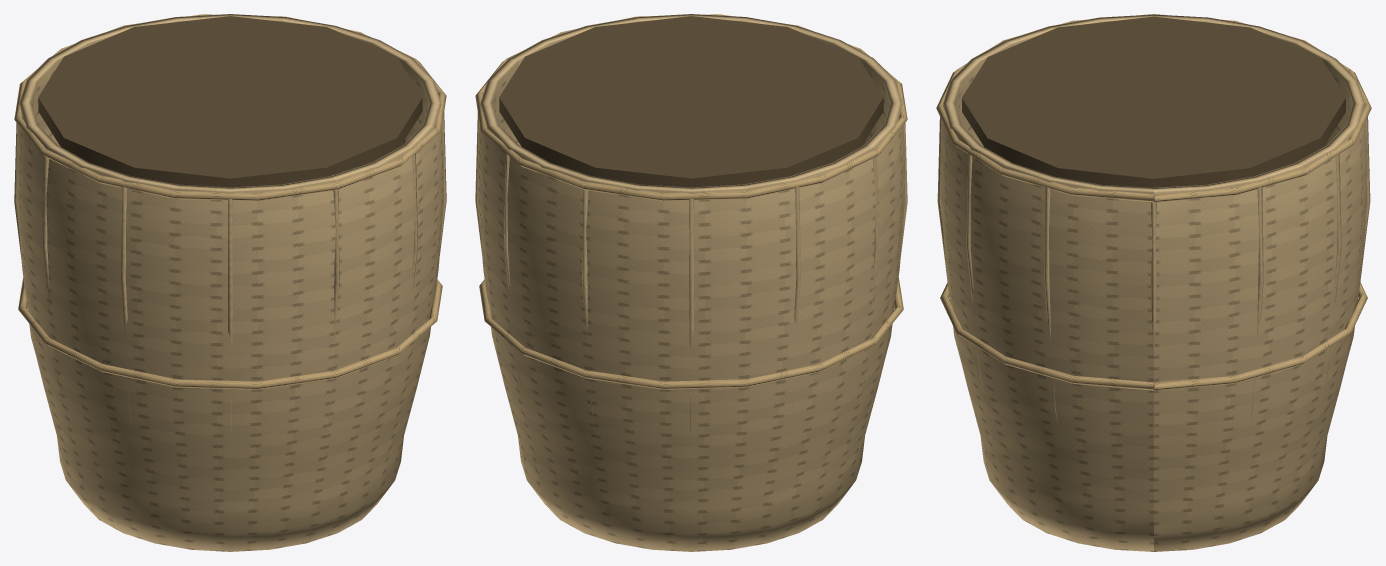
Rendered from planter-base-v11.glb.
3 renders of one model, left to right at view 1: azimuth 30°, elevation 25°; view 2: azimuth 150°, elevation 25°; view 3: azimuth 270°, elevation 25°, orthographic.
Visible parts, largest first — view 1: planter-base-v11; view 2: planter-base-v11; view 3: planter-base-v11.
Part boxes in pixels (<box>): planter-base-v11: <box>14,14,446,551</box>; planter-base-v11: <box>475,14,907,551</box>; planter-base-v11: <box>936,14,1371,551</box>.
Size of the model in its own units: 0.3389 by 0.335 by 0.339.
Materials: 4 (2 with a texture image).
